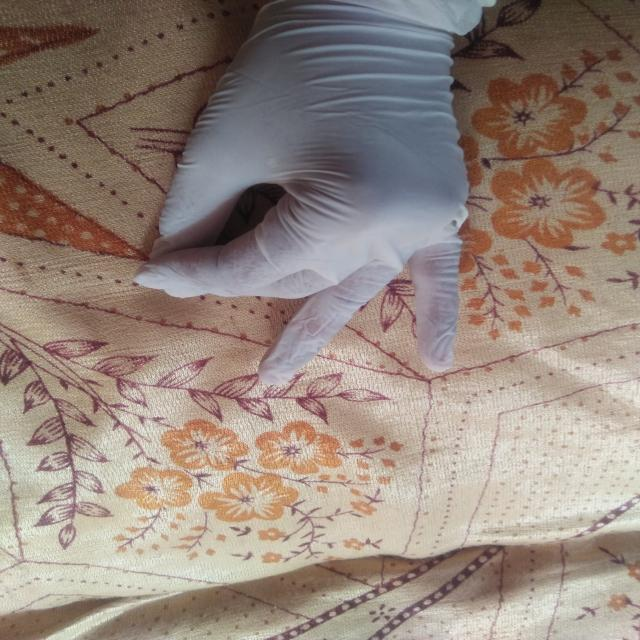gloved_hand: (122, 6, 478, 393)
